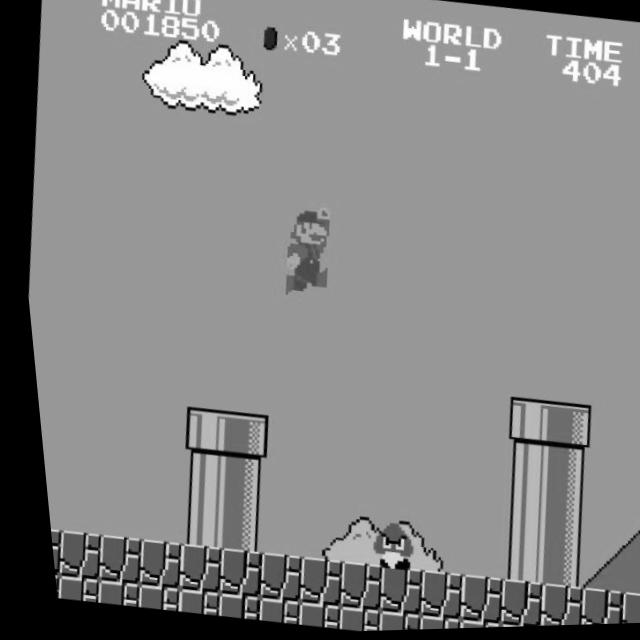0- big_mario: (269, 201, 333, 302)
14- pipe: (206, 502, 257, 554), (490, 489, 541, 541), (487, 535, 538, 587), (530, 494, 581, 546), (527, 539, 578, 591), (167, 497, 217, 550), (533, 449, 584, 500), (170, 452, 220, 504), (210, 457, 260, 509), (493, 444, 543, 495)
15- pipe_head: (496, 399, 546, 451), (536, 403, 586, 455), (173, 407, 223, 458), (213, 412, 263, 463)
17- undestructible_block: (44, 529, 95, 581), (163, 543, 214, 595), (203, 548, 254, 600), (244, 553, 295, 605), (284, 557, 335, 609), (324, 562, 375, 614), (404, 571, 455, 623), (444, 576, 495, 628), (124, 538, 174, 591), (364, 566, 414, 619), (84, 534, 134, 586), (484, 580, 534, 630), (523, 585, 573, 629), (564, 590, 613, 628), (44, 574, 90, 604), (84, 579, 130, 608), (124, 584, 170, 613), (164, 589, 210, 618), (204, 593, 250, 622), (244, 598, 290, 627), (284, 602, 330, 631), (324, 607, 369, 634), (605, 594, 640, 627), (364, 612, 409, 633), (40, 525, 54, 576), (403, 617, 448, 632), (444, 621, 488, 631)
8- goomba: (354, 519, 408, 575)
